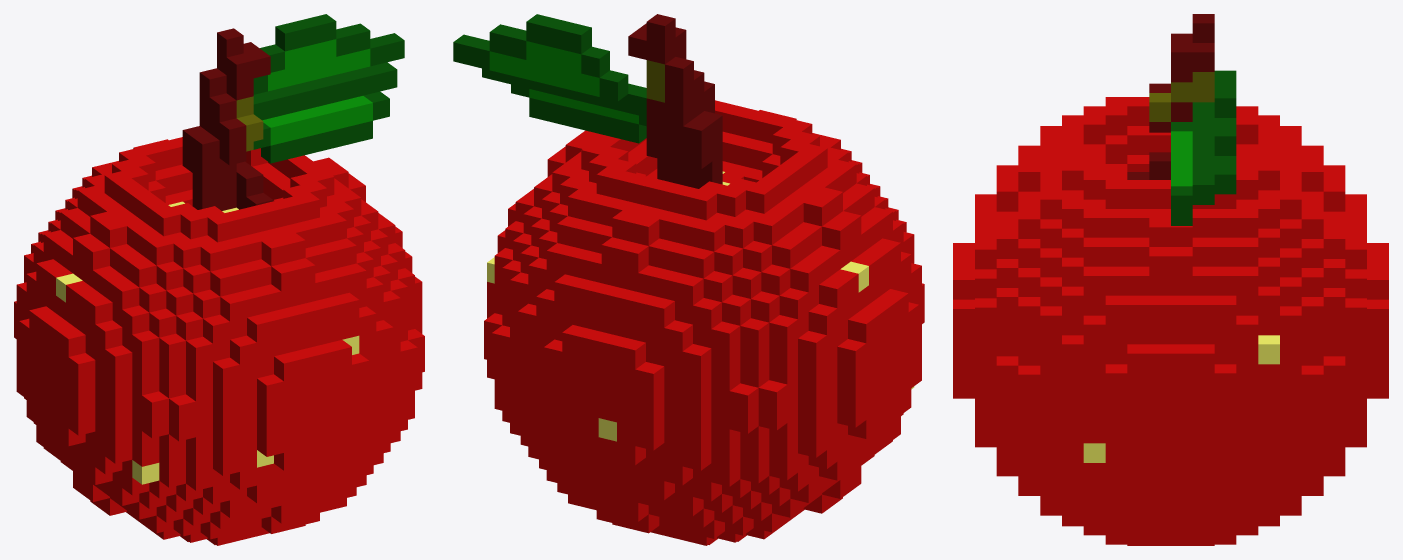
The model's file is apple.fbx.
3 renders of one model, left to right at view 1: azimuth 30°, elevation 25°; view 2: azimuth 150°, elevation 25°; view 3: azimuth 270°, elevation 25°, orthographic. The views are drawn at different scales.
Visible parts, largest first — view 1: ObjObject; view 2: ObjObject; view 3: ObjObject.
Part boxes in pixels (left/top/right/bottom): ObjObject: left=14, top=14, right=424, bottom=545; ObjObject: left=453, top=14, right=924, bottom=545; ObjObject: left=953, top=14, right=1388, bottom=545.
Size of the model in its own units: 86.61 by 78.74 by 102.
1 material, 1 textured.
